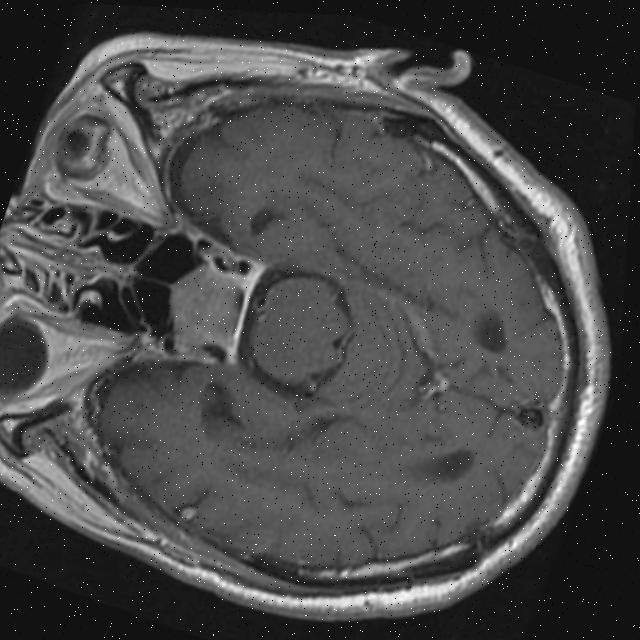Pituitary: (152, 256, 251, 353)
